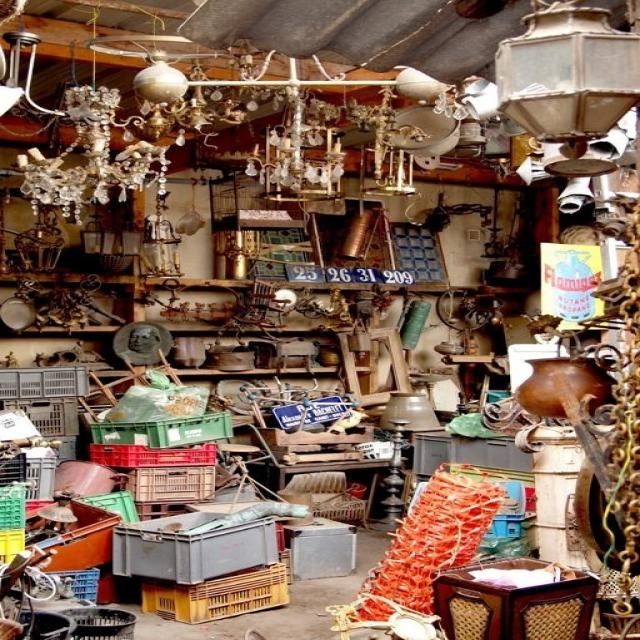Metal: (503, 9, 629, 170), (595, 224, 640, 632)
Plastics: (0, 342, 349, 629)
